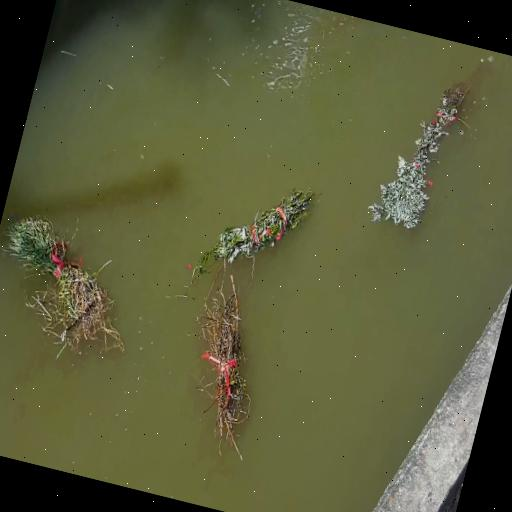twig: (1, 216, 124, 359), (369, 84, 470, 228), (192, 189, 314, 281), (199, 263, 250, 459)
